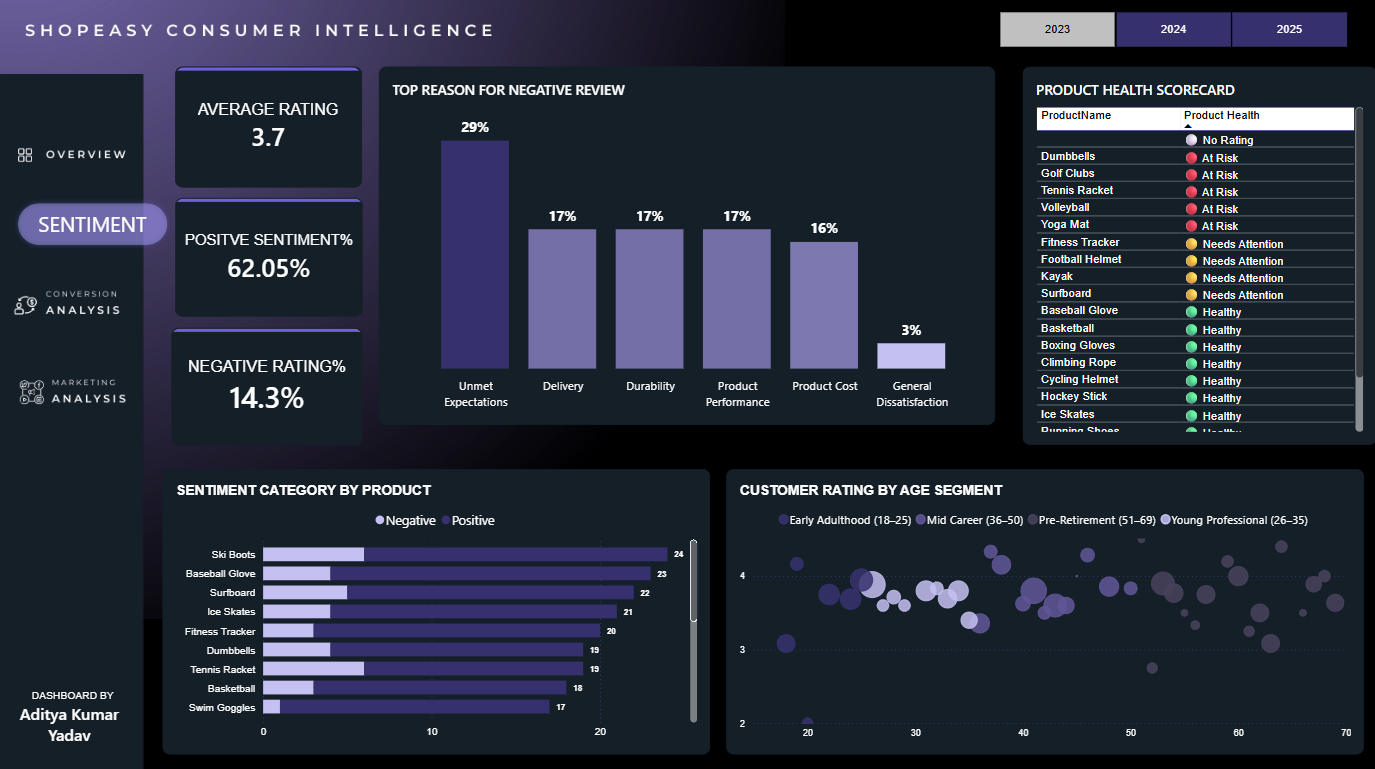

The dashboard page shown, as its layout file describes it:
{"tool":"powerbi","page":{"name":" Customer Sentiment","canvas":[1600,900],"ordinal":1},"visuals":[{"type":"cardVisual","fields":{"Data":["calculations.average rating"]},"box":[204,78.2,217.8,141.1],"z":0},{"type":"barChart","title":"SENTIMENT CATEGORY BY PRODUCT","fields":{"Category":["products.ProductName"],"Y":["CountNonNull(customer_reviews_sentiment.ReviewID)"],"Series":["customer_reviews_sentiment.SentimentCategory"]},"box":[188.3,546.7,636.7,331.7],"z":1000},{"type":"shape","box":[0,216.7,161.7,63.3],"z":2000},{"type":"clusteredColumnChart","title":"TOP REASON FOR NEGATIVE  REVIEW","fields":{"Category":["negative_reviews_issues.IssueCategory"],"Y":["Divide(CountNonNull(negative_reviews_issues.IssueCategory), ScopedEval(CountNonNull(negative_reviews_issues.IssueCategor"]},"box":[440,78.3,716.7,416.7],"z":3000},{"type":"scatterChart","title":"CUSTOMER RATING BY AGE SEGMENT","fields":{"Series":["customers.Age Segment"],"X":["customers.Age"],"Size":["CountNonNull(customer_reviews_sentiment.ReviewID)"],"Y":["Avg(customer_reviews_sentiment.Rating)"]},"box":[845,546.7,741.7,331.7],"z":4000},{"type":"tableEx","title":"PRODUCT HEALTH SCORECARD","fields":{"Values":["products.ProductName","calculations.Product Health"]},"box":[1188.3,78.3,411.7,440],"z":5000},{"type":"cardVisual","fields":{"Data":["calculations.% Positive Sentiment"]},"box":[203.3,231.7,218.3,138.3],"z":6000},{"type":"cardVisual","fields":{"Data":["negative_reviews_issues.neagtive review %"]},"box":[199.4,381.9,222.4,136.5],"z":7000},{"type":"shape","box":[0,216.7,215,90],"z":8000},{"type":"slicer","fields":{"Values":["Calendar.Date.Variation.Date Hierarchy.Year"]},"box":[1142.6,13.1,442.6,44.3],"z":9000},{"type":"pageNavigator","box":[0,306.7,183.3,205],"z":10000},{"type":"pageNavigator","box":[0,131.7,183.3,100],"z":11000},{"type":"textbox","box":[0,802.3,161.3,97.4],"z":12000}]}

Visuals, with their boxes in screenshot pixels (x1, y1, x2, y2), scaled from the page's 1600x900 canvas onto the 1375x769 screenshot:
cardVisual - calculations.average rating: bbox=(175, 67, 362, 187)
"SENTIMENT CATEGORY BY PRODUCT" barChart: bbox=(162, 467, 709, 751)
shape: bbox=(0, 185, 139, 239)
"TOP REASON FOR NEGATIVE  REVIEW" clusteredColumnChart: bbox=(378, 67, 994, 423)
"CUSTOMER RATING BY AGE SEGMENT" scatterChart: bbox=(726, 467, 1364, 751)
"PRODUCT HEALTH SCORECARD" tableEx: bbox=(1021, 67, 1374, 443)
cardVisual - calculations.% Positive Sentiment: bbox=(175, 198, 362, 316)
cardVisual - negative_reviews_issues.neagtive review %: bbox=(171, 326, 362, 443)
shape: bbox=(0, 185, 185, 262)
slicer - Calendar.Date.Variation.Date Hierarchy.Year: bbox=(982, 11, 1362, 49)
pageNavigator: bbox=(0, 262, 158, 437)
pageNavigator: bbox=(0, 113, 158, 198)
textbox: bbox=(0, 686, 139, 768)
